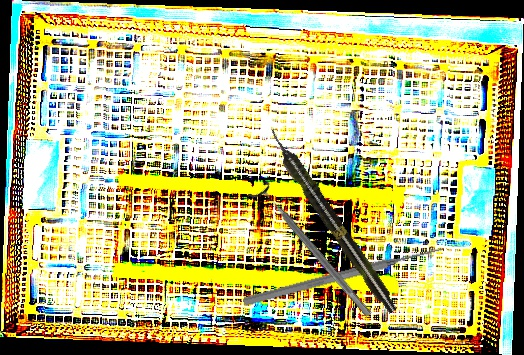Fixation Ring: (247, 178, 379, 324)
Handpiece: (263, 125, 402, 317)
Pusher: (241, 242, 446, 309)
